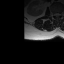CCS_normal: (56, 11, 58, 18)
LFS_normal: (60, 11, 62, 17)
LLS_normal: (58, 11, 60, 17)
RFS_normal: (52, 11, 55, 16)
RLS_normal: (55, 12, 56, 17)
